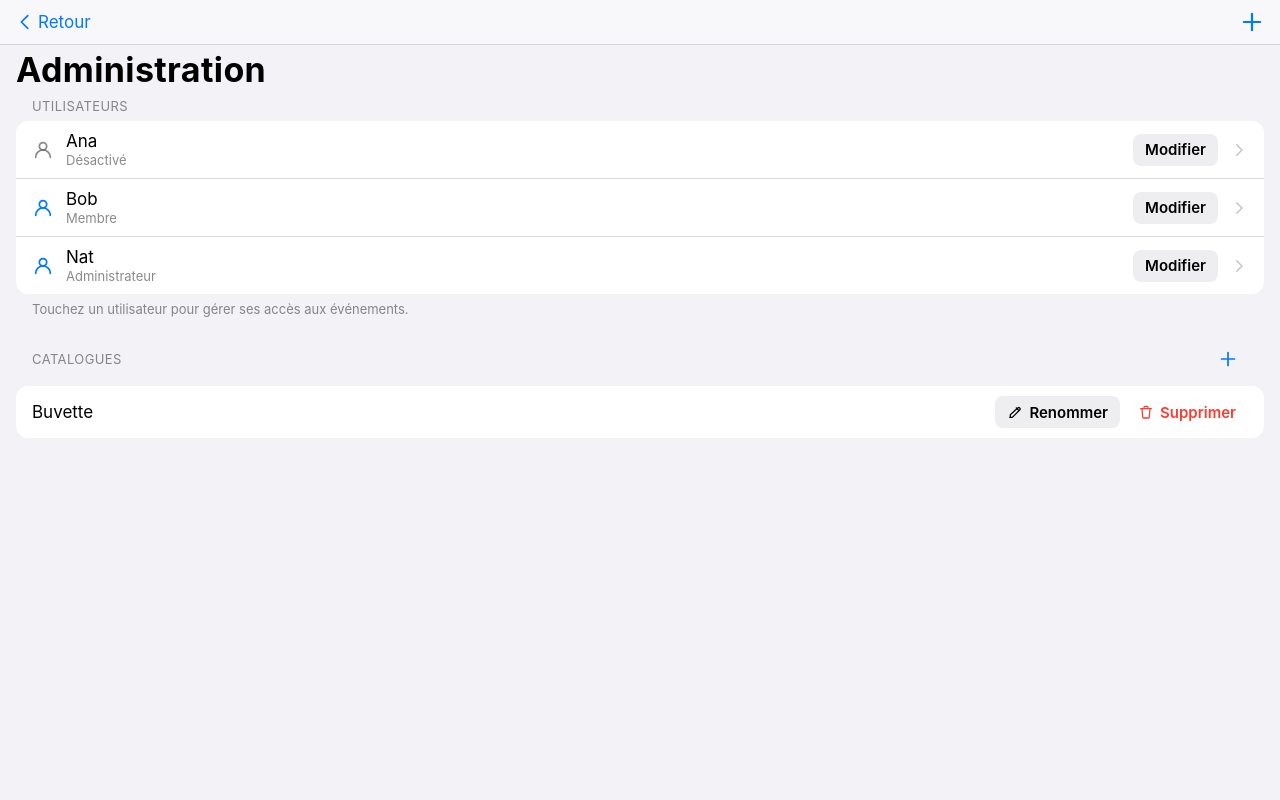
Test: AdminView › editing yourself hides the admin toggle and the disable button
This screenshot has width=1280, height=800.
Click the 3rd button "Modifier" at (1176, 266), box [1133, 250, 1218, 282]
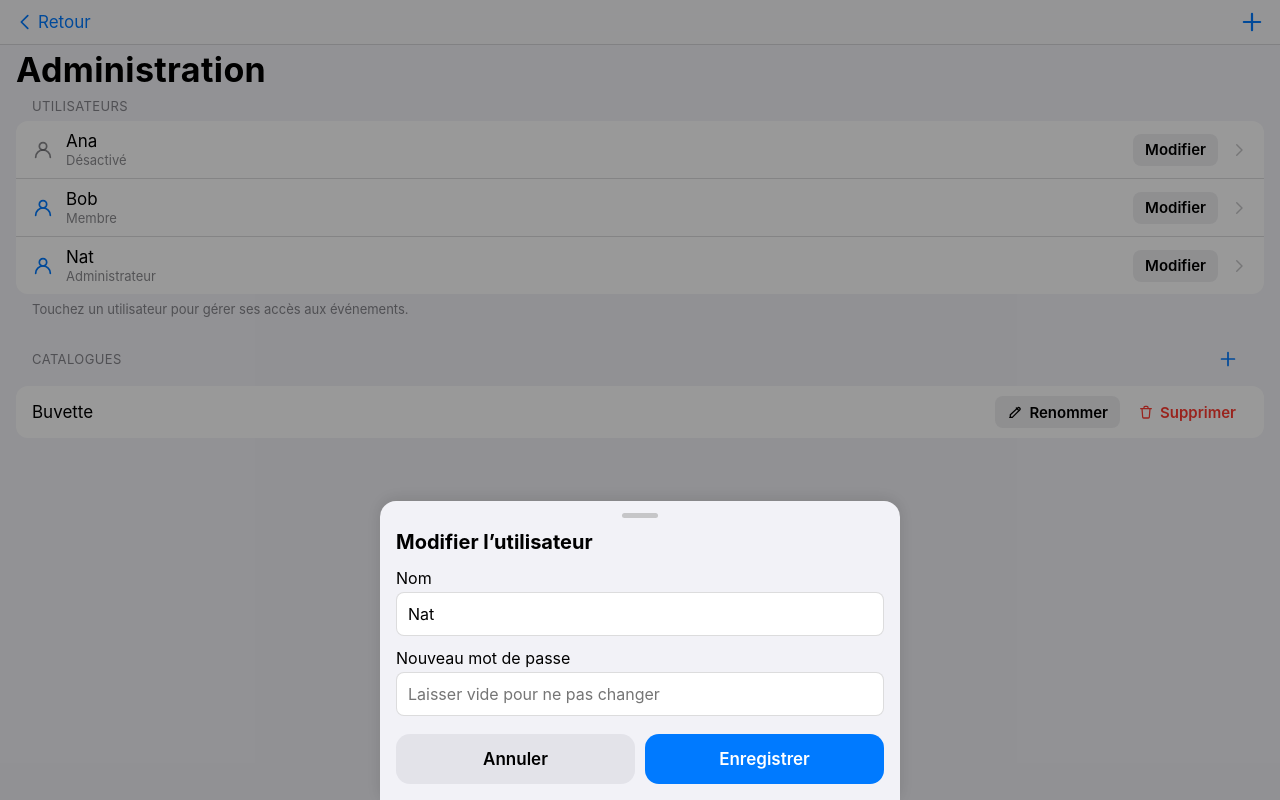
Result: the button "Enregistrer" is shown at [645, 734, 884, 784]
